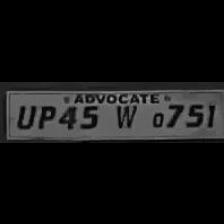1: (205, 99, 220, 127)
4: (56, 100, 76, 128)
5: (76, 100, 102, 130), (182, 99, 204, 127)
7: (163, 100, 183, 128)
P: (34, 100, 54, 128)
U: (12, 100, 34, 128)
W: (110, 100, 139, 128)
